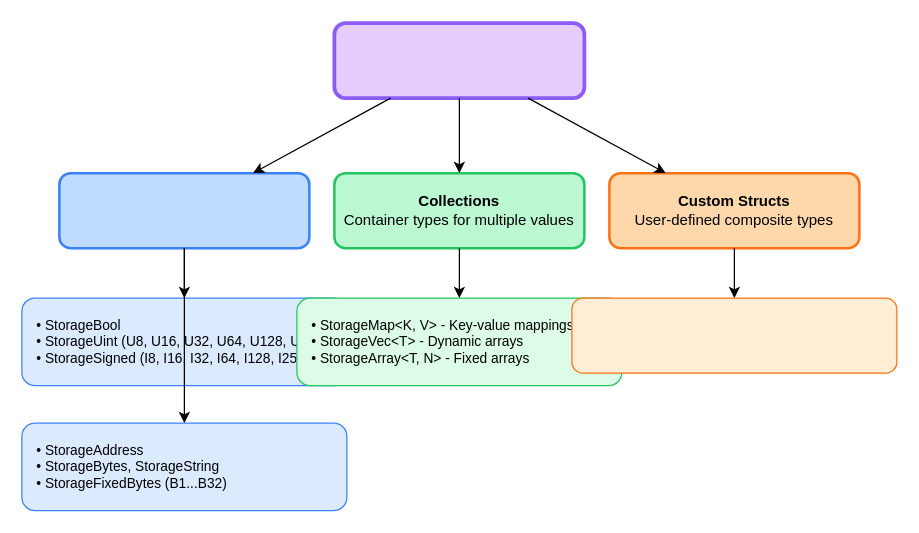
This 919x533 diagram has some shape labels left out. Each missing label, with the box of its shape:
Primitives Basic types for single values: (58, 171, 310, 249)
Storage Types Three main categories: (332, 21, 586, 99)
• sol_storage!() - Solidity-style • #[storage] struct - Rust-style: (571, 297, 897, 373)
